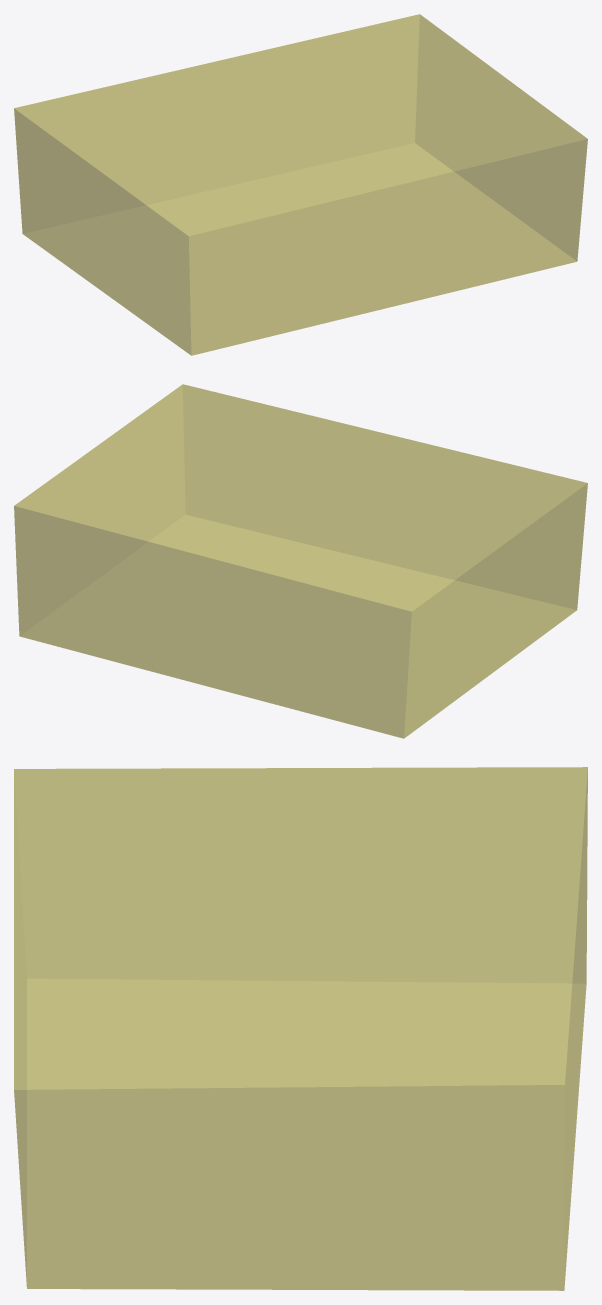
Rendered from oil.fbx.
3 renders of one model, top to bottom at view 1: azimuth 30°, elevation 25°; view 2: azimuth 150°, elevation 25°; view 3: azimuth 270°, elevation 25°, orthographic. The views are drawn at different scales.
Visible parts, largest first — view 1: Cube.002; view 2: Cube.002; view 3: Cube.002.
Boxes of the visible parts, left/top/right/bottom form: Cube.002: left=14, top=14, right=587, bottom=355; Cube.002: left=14, top=384, right=587, bottom=738; Cube.002: left=14, top=767, right=587, bottom=1290.
Size of the model in its own units: 79.21 by 24.48 by 59.77.
